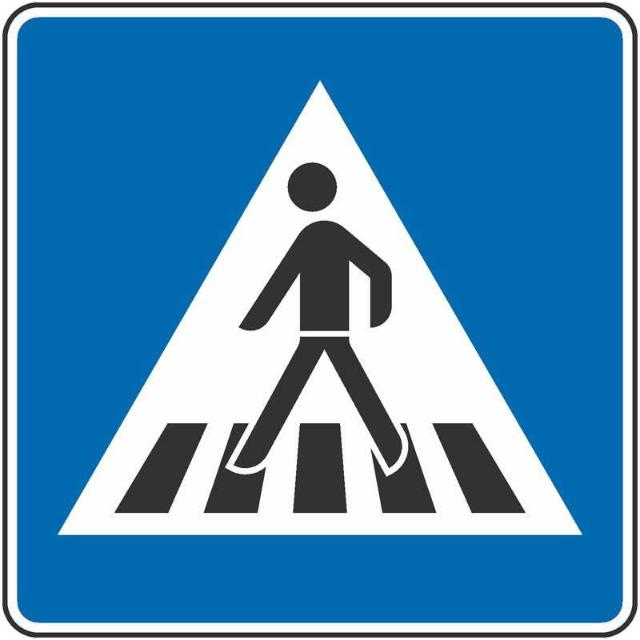crosswalk-sign: (2, 1, 640, 639)
